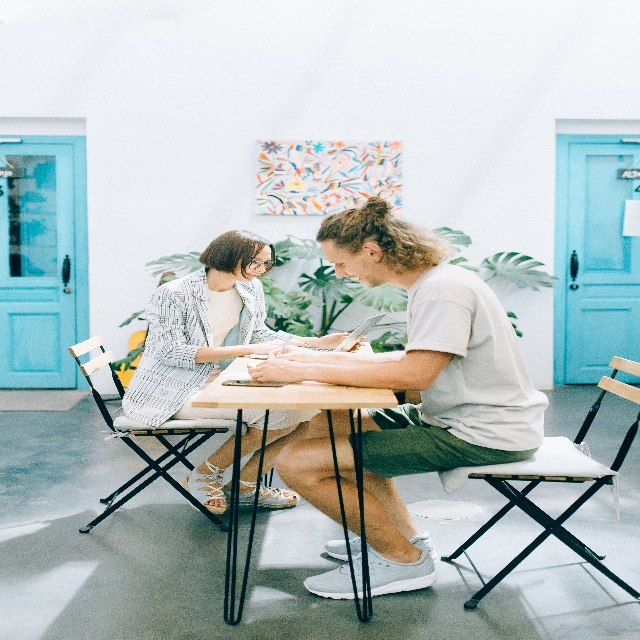Gafas: (239, 255, 275, 273)
Sin_guantes: (249, 355, 306, 385), (321, 328, 368, 352), (267, 339, 308, 365), (257, 337, 311, 353)
